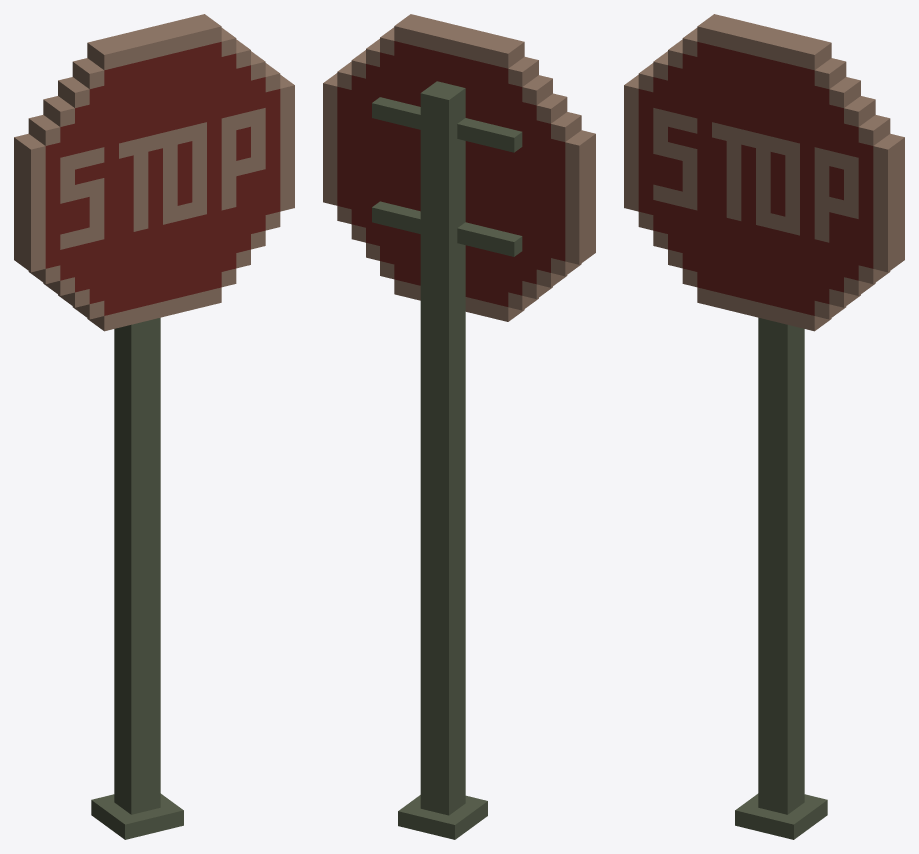
Rendered from RoadSign-66.glb.
3 renders of one model, left to right at view 1: azimuth 30°, elevation 25°; view 2: azimuth 150°, elevation 25°; view 3: azimuth 330°, elevation 25°, orthographic. The views are drawn at different scales.
Parts seen in each view (by area): view 1: RoadSign-66; view 2: RoadSign-66; view 3: RoadSign-66.
Part boxes in pixels (<box>): RoadSign-66: <box>14,14,294,839</box>; RoadSign-66: <box>323,14,595,839</box>; RoadSign-66: <box>624,14,904,839</box>.
Size of the model in its own units: 0.36 by 1.04 by 0.1.
Materials: 1 (1 with a texture image).
